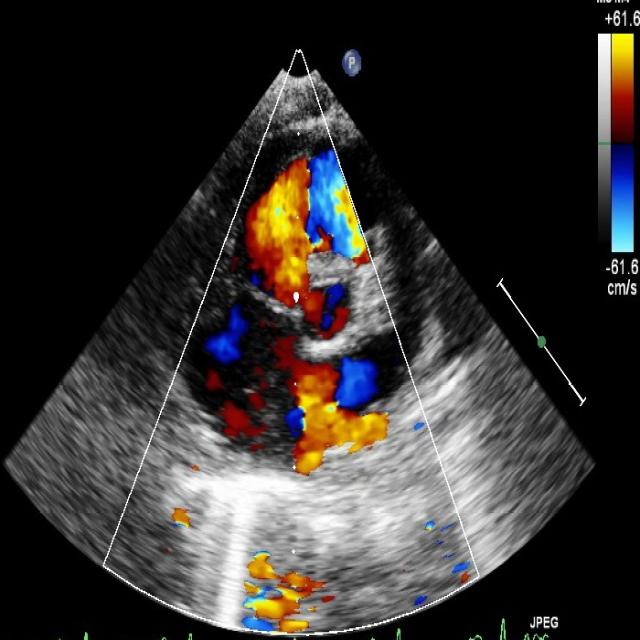VSDType2: (246, 154, 334, 478)
